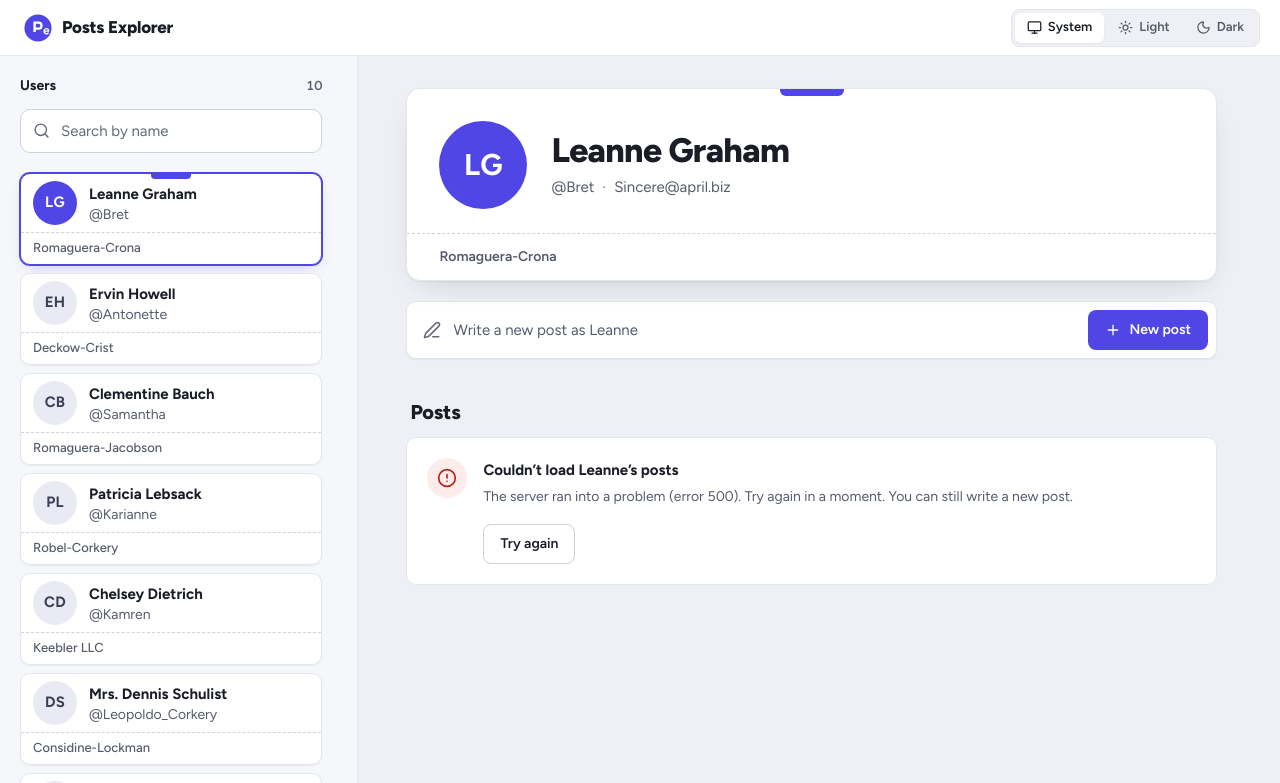
Test: GET /users/:id/posts errors › explains a server error (5xx), keeps the composer, and recovers on "Try again"
Expected: the message shows "Couldn’t load Leanne’s posts", [483, 461, 678, 479]
Expected: the message shows "The server ran into a problem (error 500). Try again in a moment.", [483, 488, 885, 505]
Step 1. Click the button "Try again" → coordinates (529, 544), box [483, 524, 576, 564]
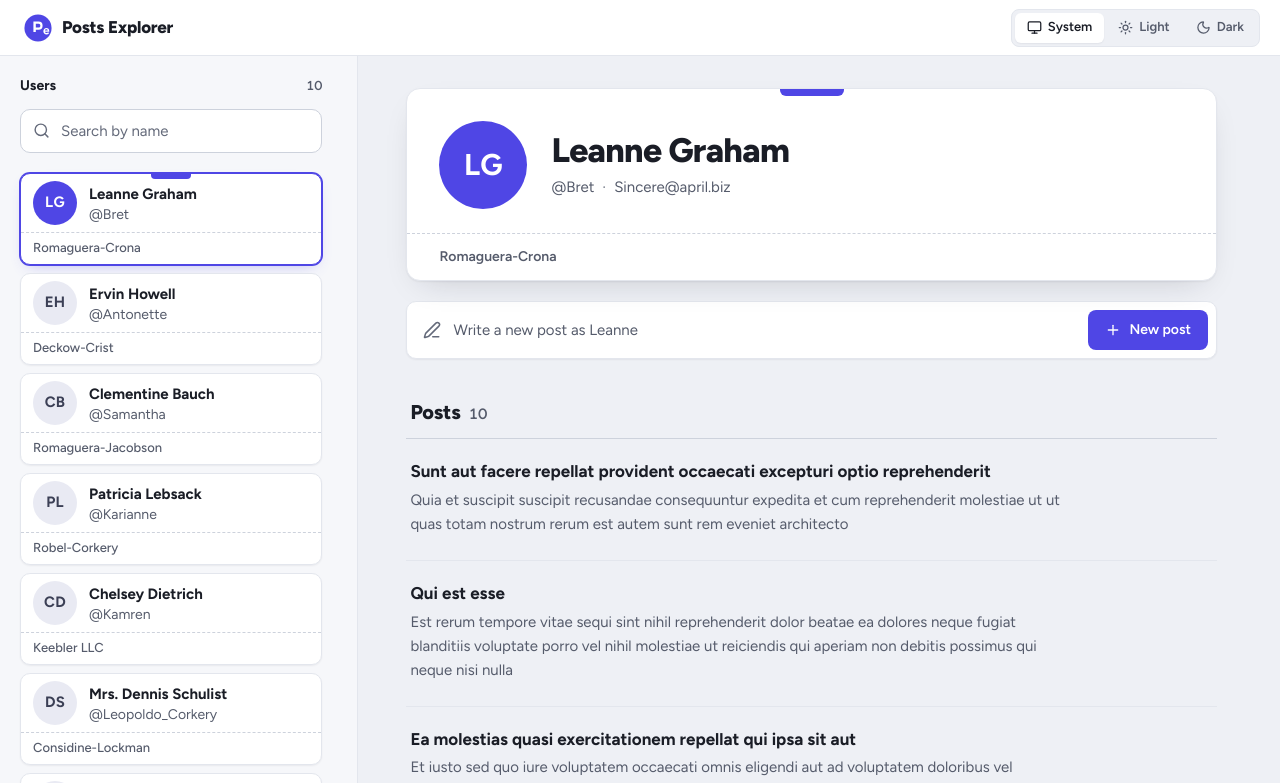
Expected: the message is gone
